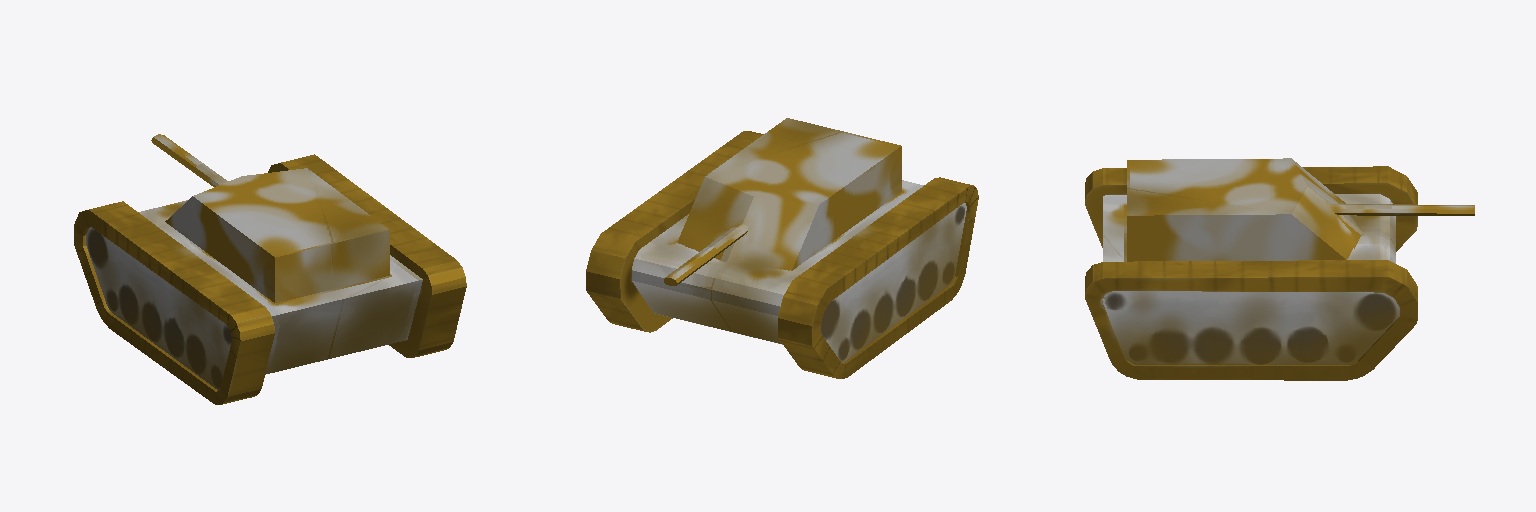
The picture shows the model from 3 angles: view 1: azimuth 30°, elevation 25°; view 2: azimuth 150°, elevation 25°; view 3: azimuth 270°, elevation 25°; orthographic projection.
Parts seen in each view (by area): view 1: Cube; view 2: Cube; view 3: Cube.
Boxes of the visible parts, x1,y1,x2,y2 form: Cube: [74, 134, 466, 404]; Cube: [586, 118, 978, 378]; Cube: [1085, 158, 1474, 380].
Size of the model in its own units: 5.25 by 3.09 by 7.86.
1 materials, 1 textured.